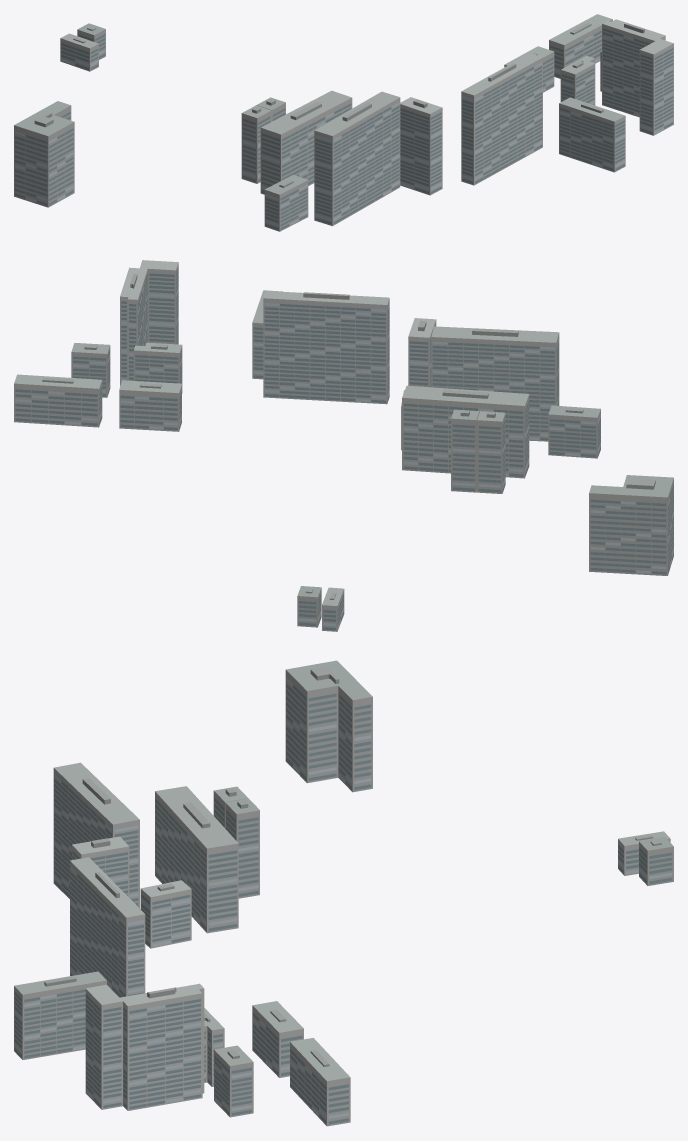
Rendered from apt-a10027800.glb.
The picture shows the model from 3 angles, top to bottom: view 1: azimuth 30°, elevation 25°; view 2: azimuth 150°, elevation 25°; view 3: azimuth 270°, elevation 25°; orthographic projection. The views are drawn at different scales.
Parts seen in each view (by area): view 1: apt-a10027800; view 2: apt-a10027800; view 3: apt-a10027800.
Boxes of the visible parts, x1,y1,x2,y2 form: apt-a10027800: (14,14,673,231); apt-a10027800: (14,260,673,631); apt-a10027800: (14,660,673,1126).
Size of the model in its own units: 433 by 65 by 323.
